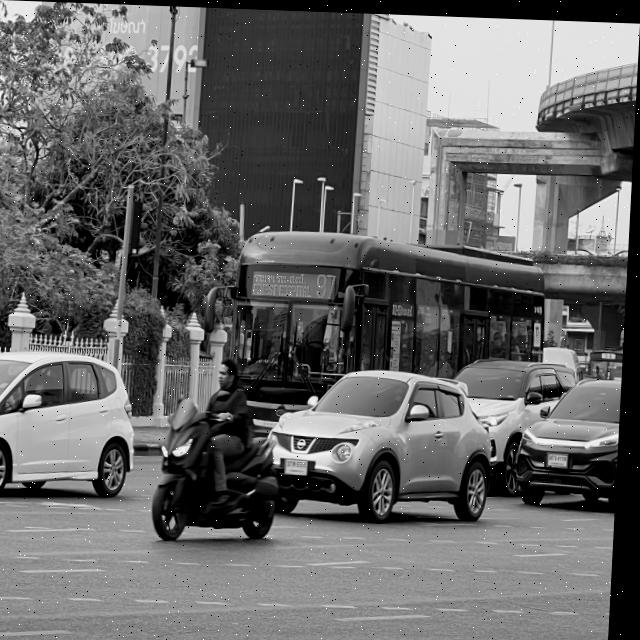Bus Line Number: (317, 265, 342, 303)
Destination Sign: (253, 269, 317, 300)
TSB-Bus: (229, 229, 549, 436)
